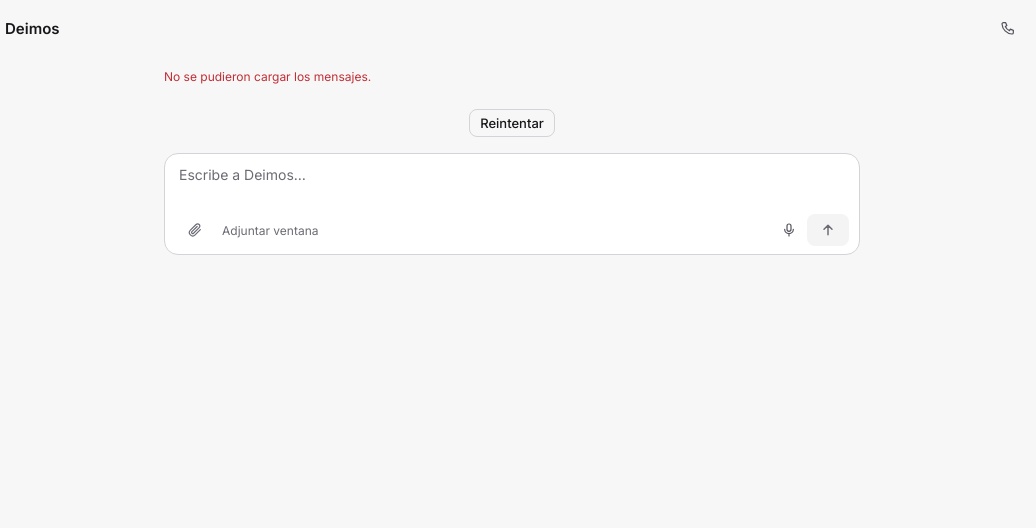
Test: a conversation's first page › a failed first page can be read again
Click the button "Reintentar" at point(512, 123), box [469, 109, 555, 137]
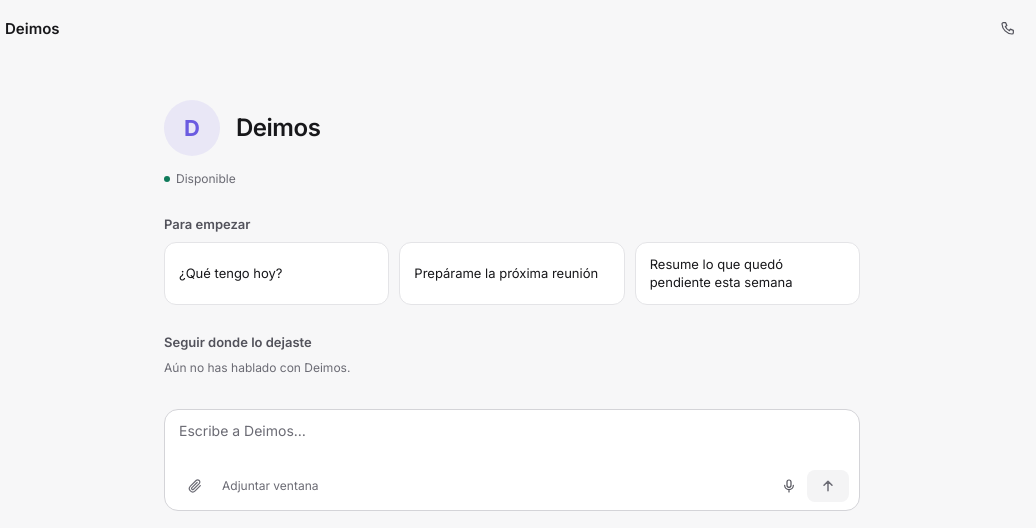
Expected: the 2nd heading "Deimos" is shown, [236, 113, 320, 143]
